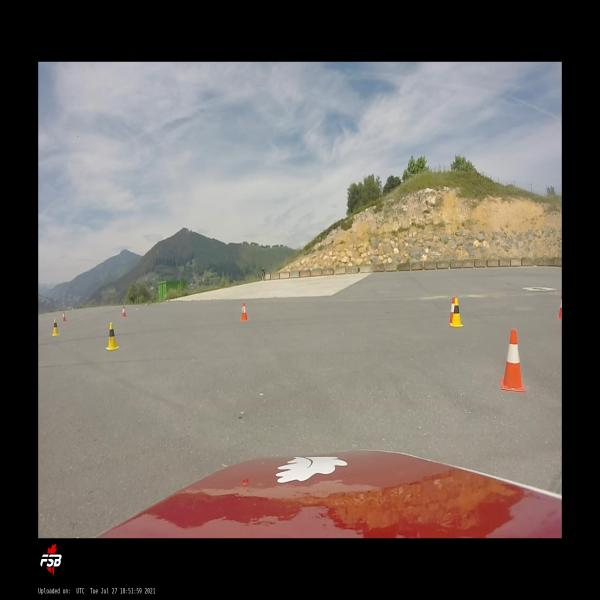orange_cone: (499, 328, 526, 392), (448, 296, 458, 324), (240, 302, 249, 321), (557, 294, 562, 320), (121, 307, 126, 318), (62, 312, 67, 322)
yellow_cone: (449, 297, 464, 328), (106, 322, 120, 350), (52, 319, 60, 336)
